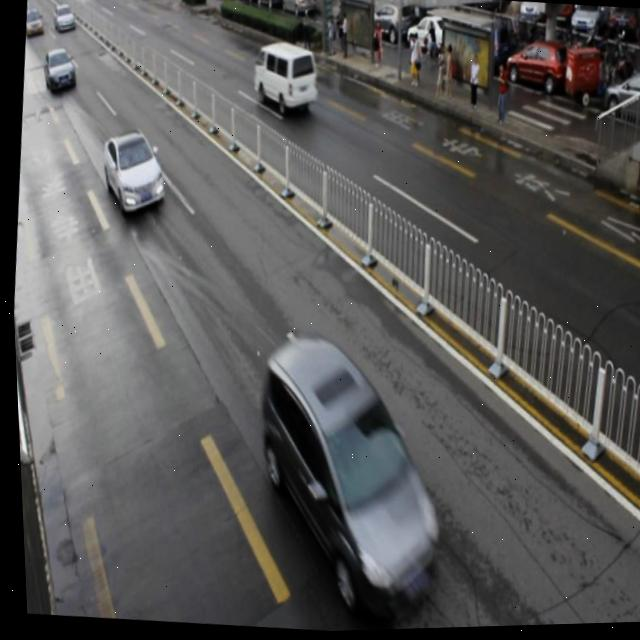car: (96, 127, 168, 219), (41, 45, 78, 96)
truck: (241, 331, 449, 601), (248, 38, 320, 113)
